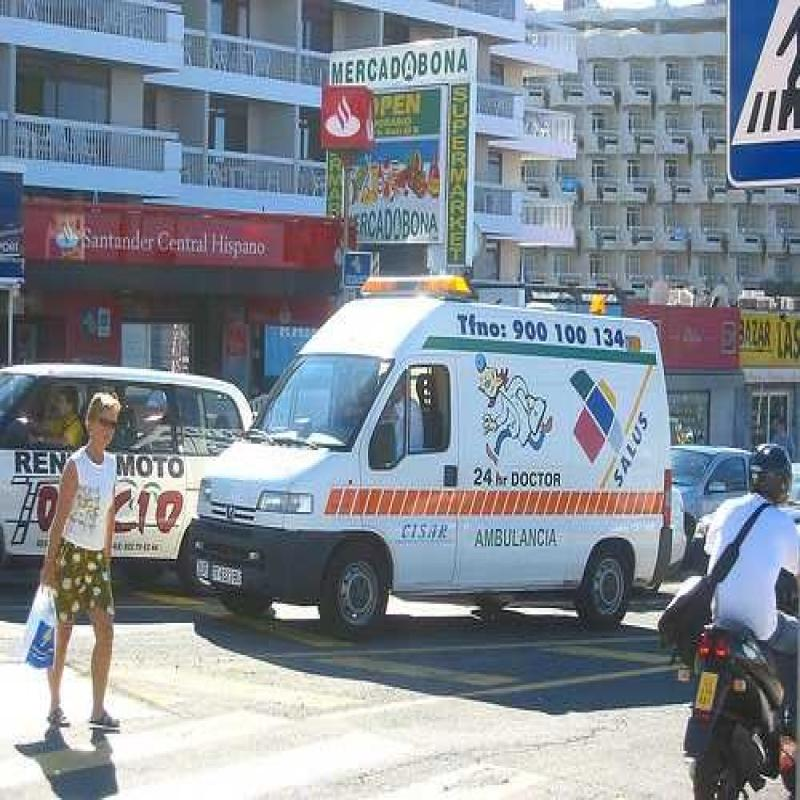AmbulanceSiren: (349, 249, 480, 322)
